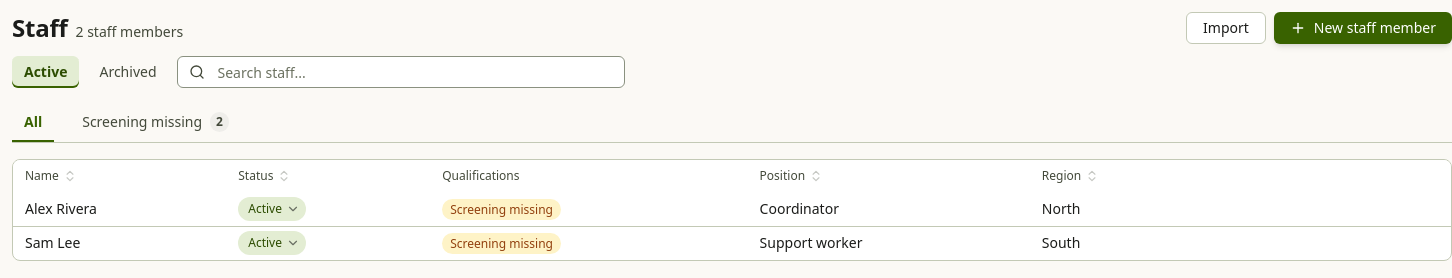
Test case: StaffPage — PP-45 search › renders a search input and filters the table to matching staff
This screenshot has width=1452, height=278.
Check: the link "Alex Rivera" is shown, box x1=25 y1=199 x2=97 y2=218
Check: the link "Sam Lee" is shown, box x1=25 y1=233 x2=80 y2=252
Type "sam" into the field with placeholder "Search staff..." at {"x": 400, "y": 72}, box x1=176 y1=56 x2=624 y2=88
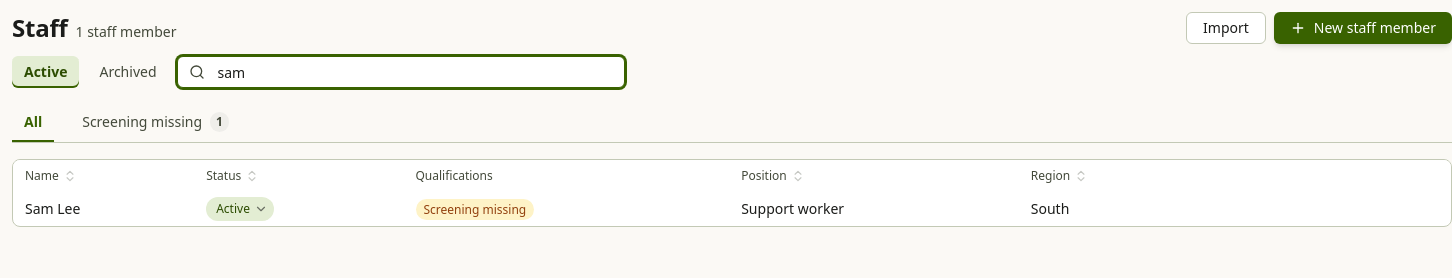
Check: the link "Sam Lee" is shown, box x1=25 y1=199 x2=80 y2=218
Check: the link "Alex Rivera" is gone
